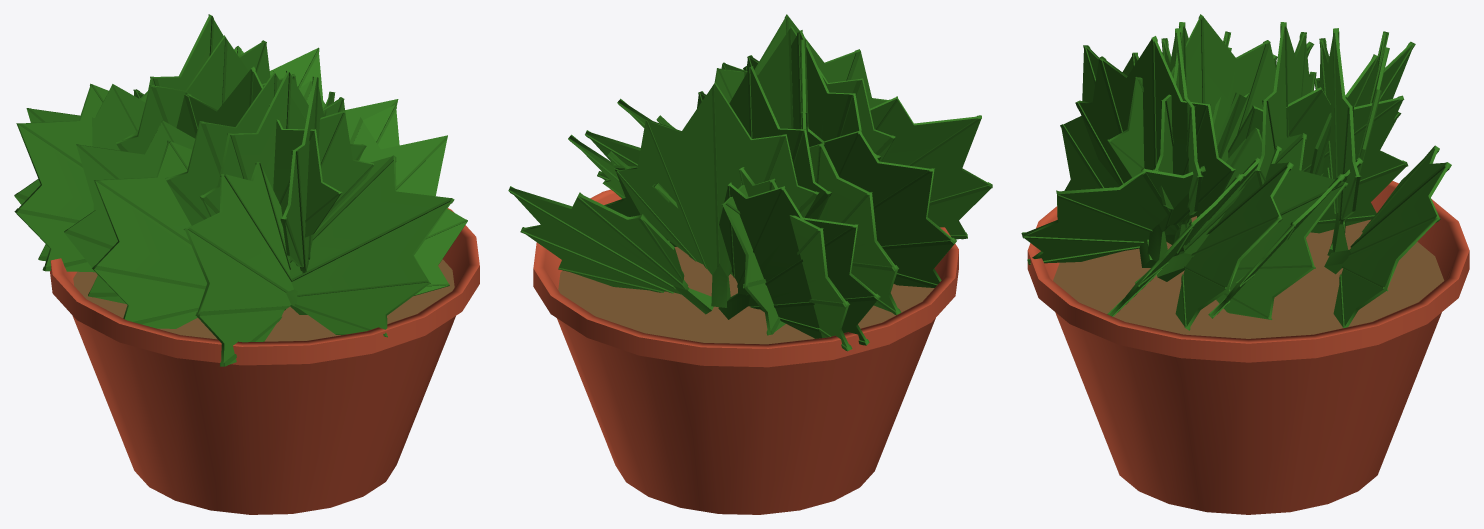
Rendered from gillyweed pot.fbx.
3 views of the same model, side by side, from view 1: azimuth 30°, elevation 25°; view 2: azimuth 150°, elevation 25°; view 3: azimuth 270°, elevation 25° (orthographic). The views are drawn at different scales.
Parts seen in each view (by area): view 1: polySurface1; view 2: polySurface1; view 3: polySurface1.
Part boxes in pixels (x1,y1,x2,y2): polySurface1: [14, 14, 479, 514]; polySurface1: [508, 14, 992, 514]; polySurface1: [1021, 14, 1469, 514].
Size of the model in its own units: 4.74 by 4.97 by 4.75.
